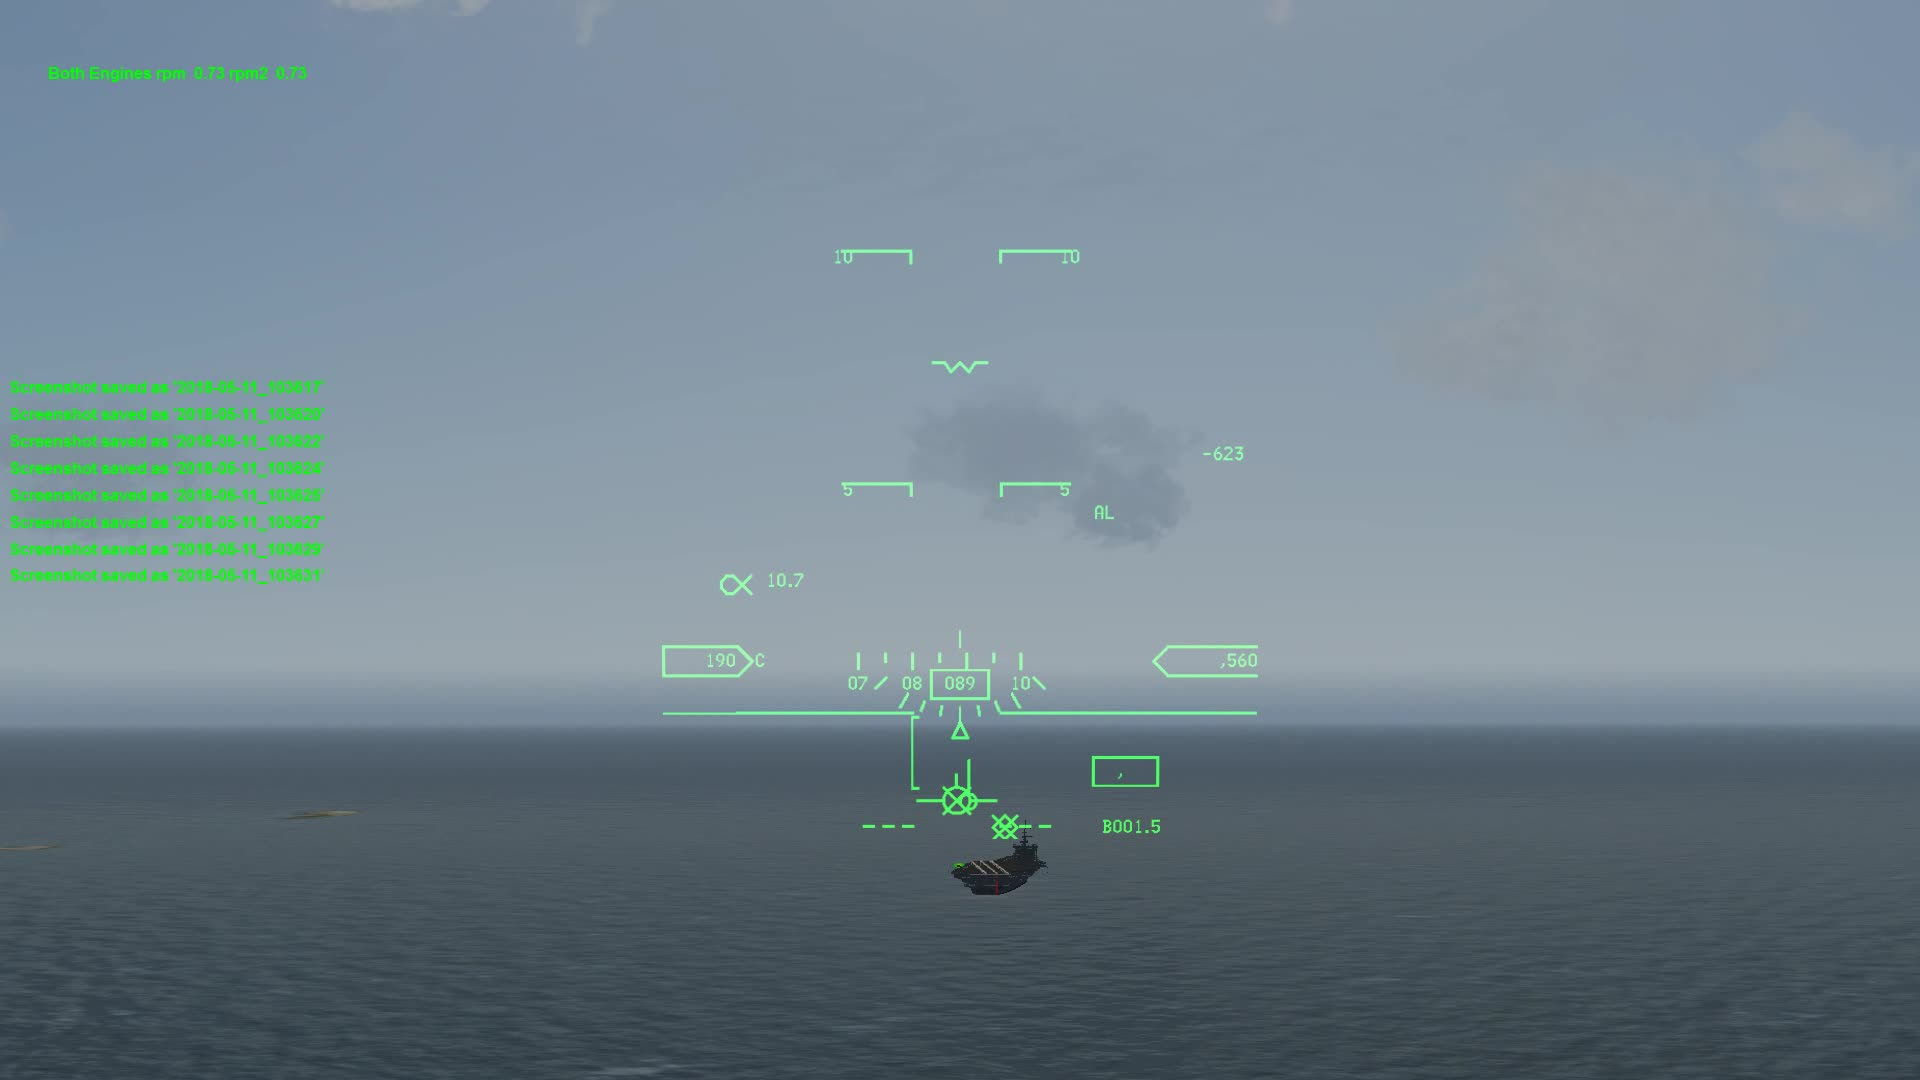speed vector: (915, 766, 1007, 818)
